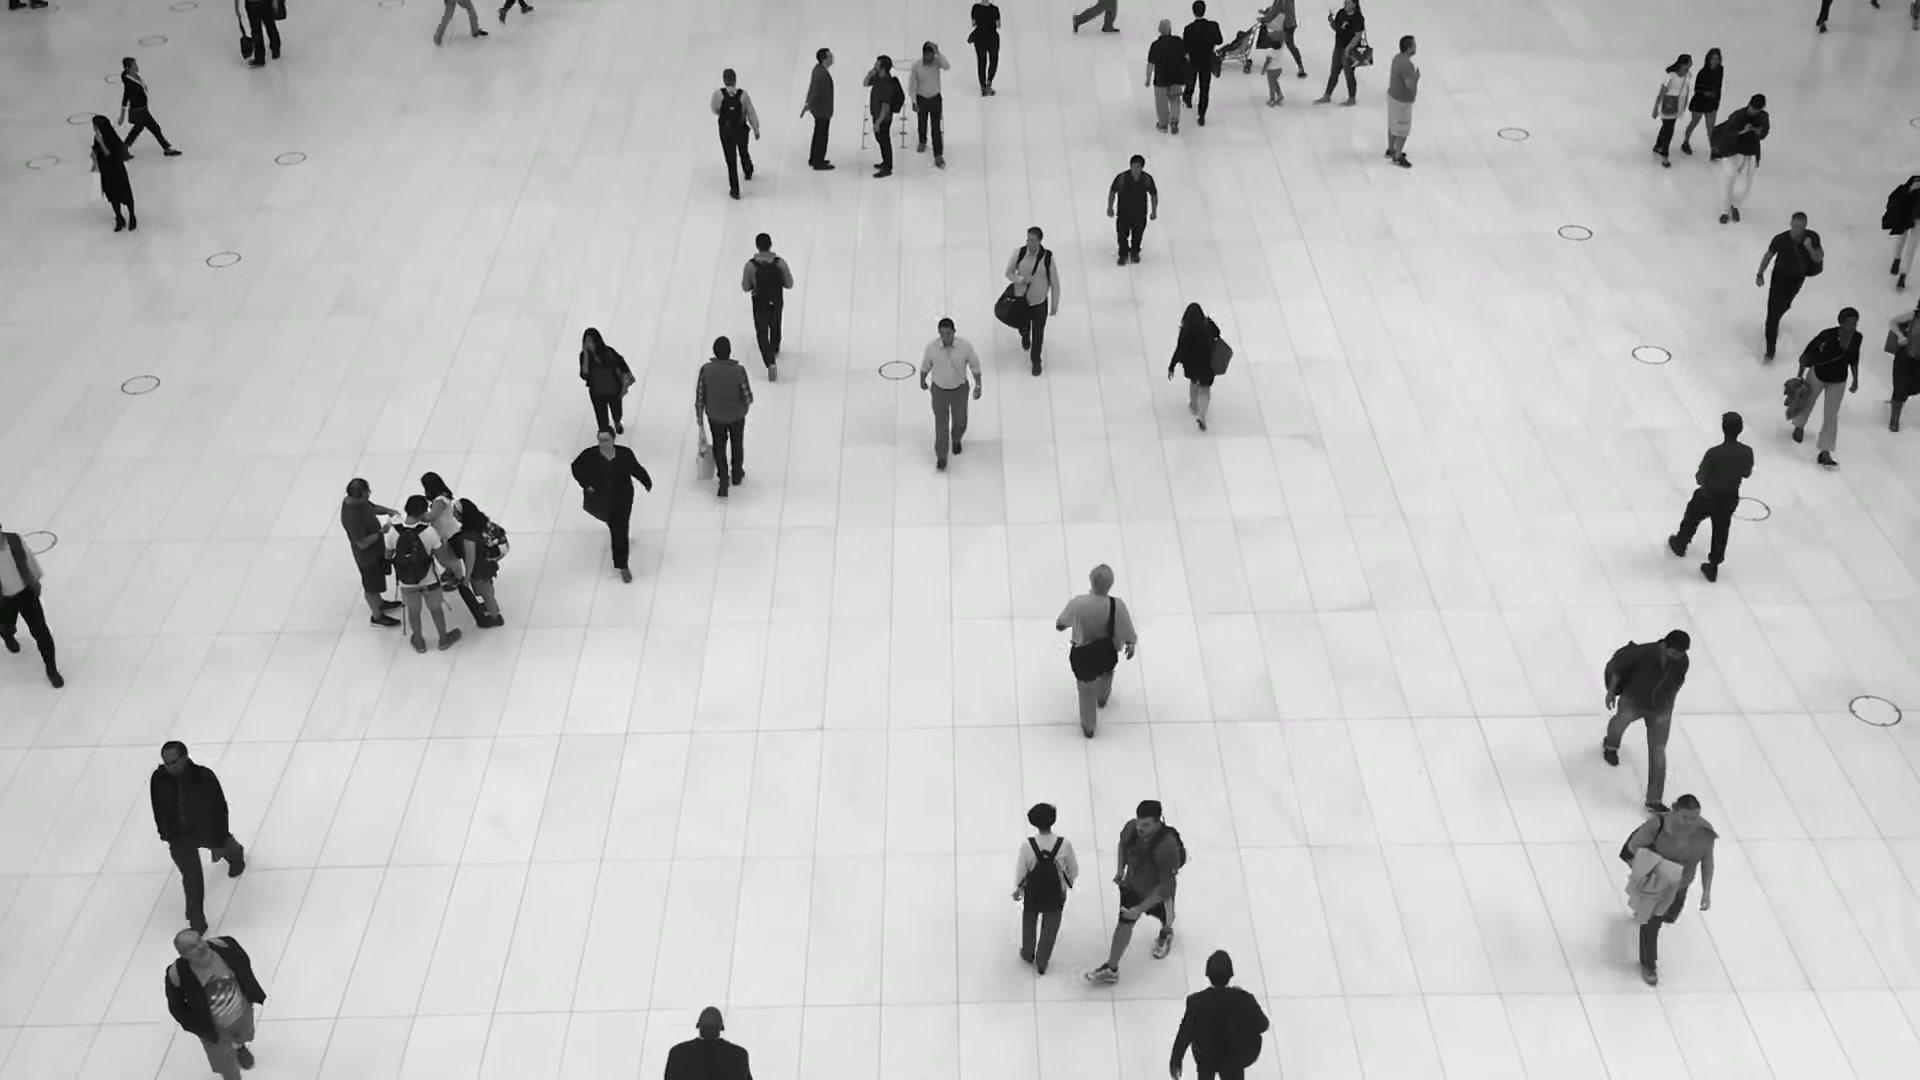person: (149, 735, 243, 922), (1622, 789, 1713, 973), (1099, 799, 1186, 988), (1599, 625, 1690, 801), (162, 924, 264, 1079), (1056, 567, 1137, 751), (1672, 414, 1754, 592), (1012, 808, 1081, 995), (1787, 305, 1863, 468), (1171, 954, 1268, 1079), (385, 495, 461, 653), (571, 423, 652, 574), (1752, 209, 1823, 360), (693, 336, 753, 498), (918, 319, 981, 471), (340, 477, 402, 629), (1710, 94, 1769, 233), (1004, 224, 1058, 372), (741, 232, 794, 375), (704, 71, 757, 203), (452, 498, 504, 628), (1170, 302, 1223, 424), (1104, 155, 1157, 274), (578, 324, 633, 432), (1315, 0, 1366, 109), (90, 115, 136, 233), (1145, 20, 1189, 138), (1646, 53, 1692, 166), (908, 40, 950, 166), (1679, 48, 1724, 162), (1181, 1, 1222, 125), (862, 56, 903, 180), (419, 471, 460, 593), (1383, 34, 1420, 168), (117, 55, 167, 151), (799, 48, 836, 172), (1258, 0, 1306, 77), (969, 0, 1001, 105), (1260, 38, 1284, 107)
